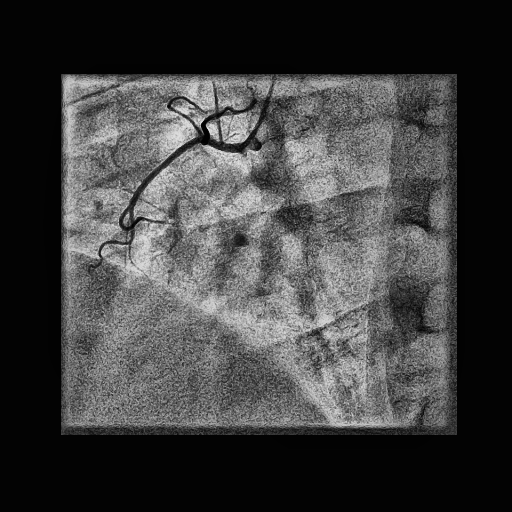rca: (128, 136, 242, 275)
